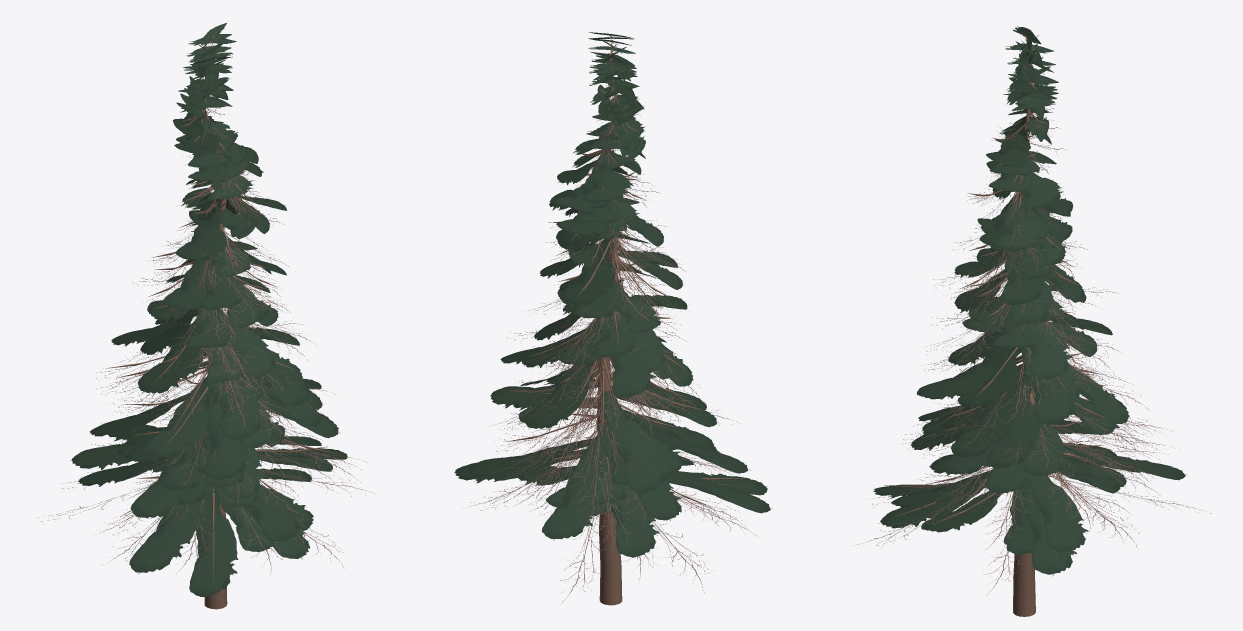
3 renders of one model, left to right at view 1: azimuth 30°, elevation 25°; view 2: azimuth 150°, elevation 25°; view 3: azimuth 270°, elevation 25°, orthographic. The views are drawn at different scales.
Visible parts, largest first — view 1: LOD Test.02; view 2: LOD Test.02; view 3: LOD Test.02.
Boxes of the visible parts, x1,y1,x2,y2 form: LOD Test.02: (40,23,374,609); LOD Test.02: (454,32,772,605); LOD Test.02: (854,26,1211,616).
Size of the model in its own units: 3682 by 5979 by 3708.
